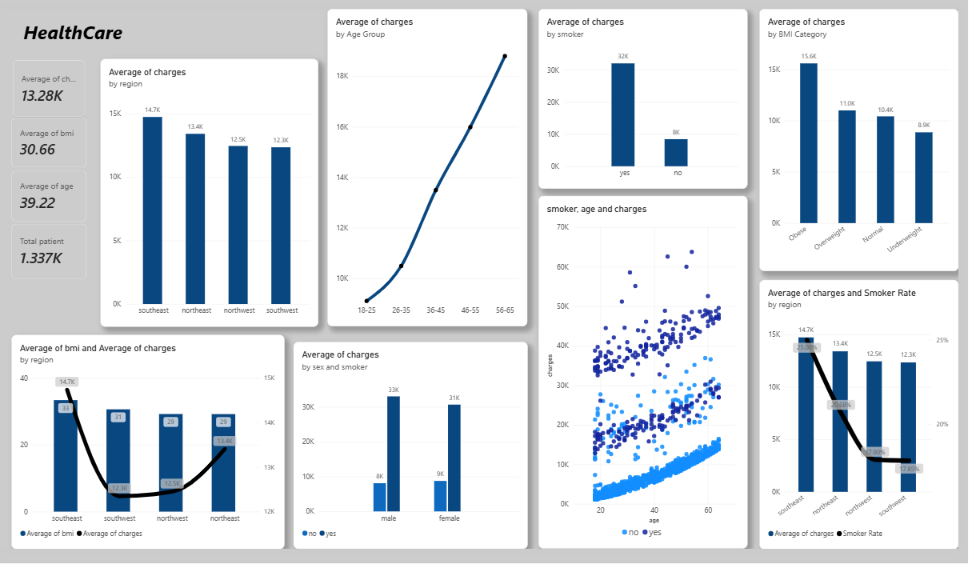

The page's visual inventory and layout, read from the dashboard file:
{"tool":"powerbi","page":{"name":"Page 1","canvas":[1920,1080],"ordinal":0},"visuals":[{"type":"clusteredColumnChart","fields":{"Category":["insurance_clean_1.smoker"],"Y":["Avg(insurance_clean_1.charges)"]},"box":[1080.4,0,418,360.1],"z":0},{"type":"scatterChart","fields":{"Series":["insurance_clean_1.smoker"],"X":["insurance_clean_1.age"],"Y":["insurance_clean_1.charges"]},"box":[1080.4,374.6,418,705.8],"z":1000},{"type":"clusteredColumnChart","fields":{"Category":["insurance_clean_1.region"],"Y":["Avg(insurance_clean_1.charges)"]},"box":[204.5,99.5,436.1,535.7],"z":2000},{"type":"clusteredColumnChart","fields":{"Category":["insurance_clean_1.BMI Category"],"Y":["Avg(insurance_clean_1.charges)"]},"box":[1521.9,0,398.1,524.8],"z":3000},{"type":"lineClusteredColumnComboChart","fields":{"Category":["insurance_clean_1.region"],"Y":["Avg(insurance_clean_1.charges)"],"Y2":["insurance_clean_1.Smoker Rate"]},"box":[1521.9,541.1,398.1,539.3],"z":4000},{"type":"lineClusteredColumnComboChart","fields":{"Category":["insurance_clean_1.region"],"Y":["Avg(insurance_clean_1.bmi)"],"Y2":["Avg(insurance_clean_1.charges)"]},"box":[25.3,651.5,546.5,428.9],"z":5000},{"type":"lineChart","fields":{"Category":["insurance_clean_1.Age Group"],"Y":["Avg(insurance_clean_1.charges)"]},"box":[658.7,0,399.9,635.2],"z":6000},{"type":"clusteredColumnChart","fields":{"Category":["insurance_clean_1.sex"],"Series":["insurance_clean_1.smoker"],"Y":["Avg(insurance_clean_1.charges)"]},"box":[589.9,651.5,468.7,414.4],"z":7000},{"type":"textbox","box":[100,100,300,300],"z":8000},{"type":"textbox","box":[50.7,19.9,385.5,79.6],"z":9000},{"type":"cardVisual","fields":{"Data":["Avg(insurance_clean_1.charges)"]},"box":[25.3,99.5,150.2,119.4],"z":10000},{"type":"cardVisual","fields":{"Data":["Avg(insurance_clean_1.bmi)"]},"box":[25.3,219,150.2,99.5],"z":11000},{"type":"cardVisual","fields":{"Data":["Avg(insurance_clean_1.age)"]},"box":[25.3,323.9,150.2,101.3],"z":12000},{"type":"cardVisual","fields":{"Data":["CountNonNull(insurance_clean_1.charges)"]},"box":[25.3,430.7,150.2,110.4],"z":13000}]}

Visuals, with their boxes on the page's 1920x1080 design canvas (x1, y1, x2, y2). These are canvas units, not pixel positions in the 969x564 screenshot, which may show the page scaled, cropped or inside an application window:
clusteredColumnChart - insurance_clean_1.smoker x Avg(insurance_clean_1.charges): 1080,0,1498,360
scatterChart - insurance_clean_1.smoker x insurance_clean_1.age: 1080,375,1498,1080
clusteredColumnChart - insurance_clean_1.region x Avg(insurance_clean_1.charges): 204,100,641,635
clusteredColumnChart - insurance_clean_1.BMI Category x Avg(insurance_clean_1.charges): 1522,0,1920,525
lineClusteredColumnComboChart - insurance_clean_1.region x Avg(insurance_clean_1.charges): 1522,541,1920,1080
lineClusteredColumnComboChart - insurance_clean_1.region x Avg(insurance_clean_1.bmi): 25,652,572,1080
lineChart - insurance_clean_1.Age Group x Avg(insurance_clean_1.charges): 659,0,1059,635
clusteredColumnChart - insurance_clean_1.sex x insurance_clean_1.smoker: 590,652,1059,1066
textbox: 100,100,400,400
textbox: 51,20,436,100
cardVisual - Avg(insurance_clean_1.charges): 25,100,176,219
cardVisual - Avg(insurance_clean_1.bmi): 25,219,176,318
cardVisual - Avg(insurance_clean_1.age): 25,324,176,425
cardVisual - CountNonNull(insurance_clean_1.charges): 25,431,176,541
